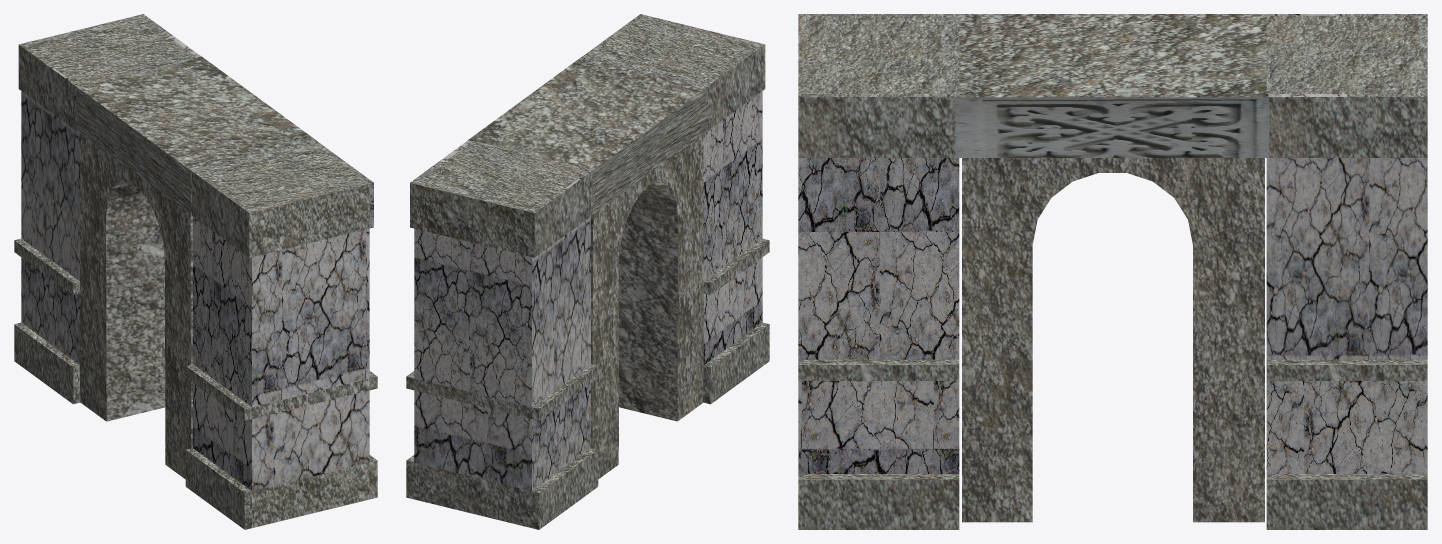
File: Hittites_entrance_wall.fbx
The picture shows the model from 3 angles, left to right: view 1: azimuth 30°, elevation 25°; view 2: azimuth 150°, elevation 25°; view 3: azimuth 270°, elevation 25°; orthographic projection. The views are drawn at different scales.
Visible parts, largest first — view 1: Cube.002, Circle, Cube.000, Cube.003; view 2: Cube.000, Circle, Cube.002, Cube.003; view 3: Cube.000, Cube.002, Circle, Cube.003.
Part boxes in pixels (box(x1,y1,x2,y2)): Cube.002: box(185, 139, 377, 529); Circle: box(80, 134, 192, 479); Cube.000: box(14, 14, 201, 404); Cube.003: box(76, 57, 316, 215); Cube.000: box(406, 139, 598, 529); Circle: box(591, 134, 703, 479); Cube.002: box(582, 14, 769, 404); Cube.003: box(468, 57, 707, 214); Cube.000: box(1266, 14, 1427, 529); Cube.002: box(798, 14, 959, 529); Circle: box(962, 158, 1264, 522); Cube.003: box(955, 14, 1269, 157).
Bounding box in the file's own units: 260 × 590 × 781.
